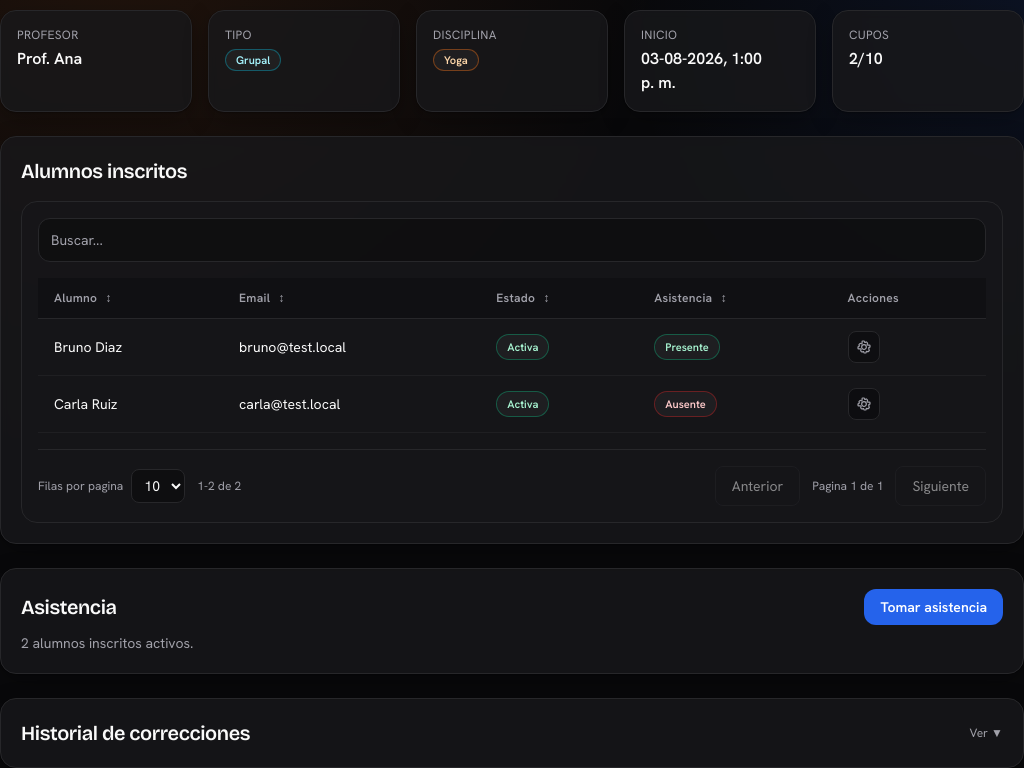
GymAdminClassDetailPage — historial de correcciones (#10.2) › renderiza cada corrección con anterior→nuevo (badges) y quién la hizo
The image size is (1024, 768).
(page scrolled)
Expected: the button "Tomar asistencia" is enabled, [864,589,1003,625]
Click the button "Historial de correcciones Ver ▼" at coordinates (136, 733), box [21,719,1003,747]
(page scrolled)
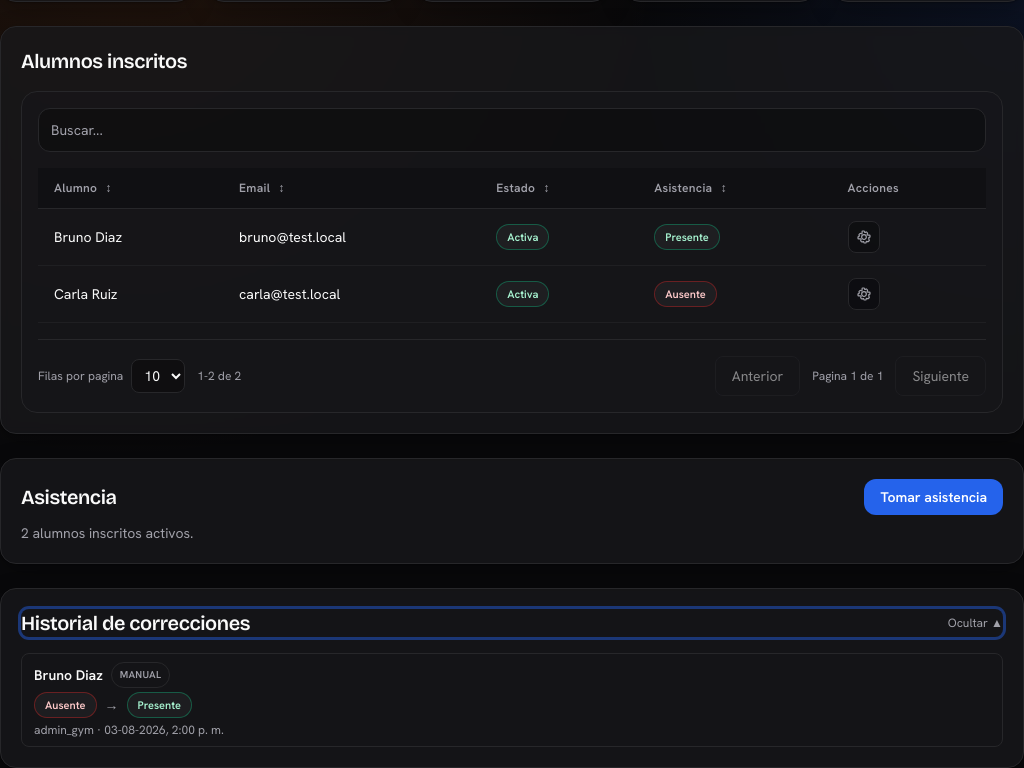
Now the text "Bruno Diaz" is shown, box [34,665,103,685]
Now the text "Ausente" below "Manual" is shown, box [45,698,86,712]
Now the text "Presente" below "Manual" is shown, box [138,698,181,712]
